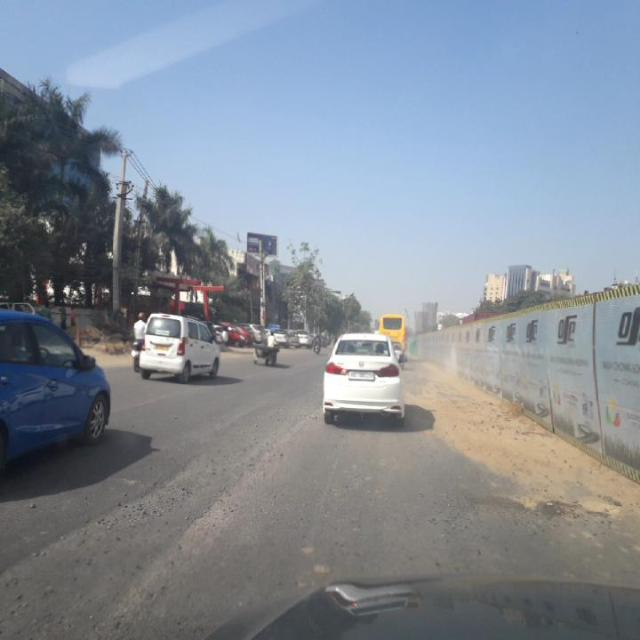Surface Erosion: (62, 412, 356, 640), (398, 346, 640, 577)
